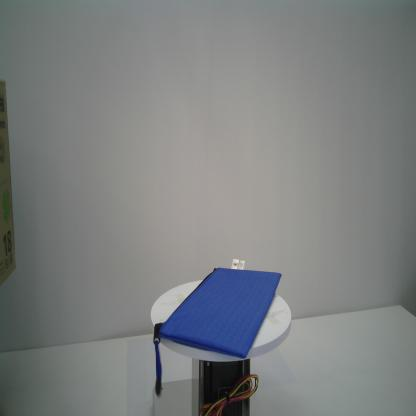Stationery: (152, 256, 284, 400)
